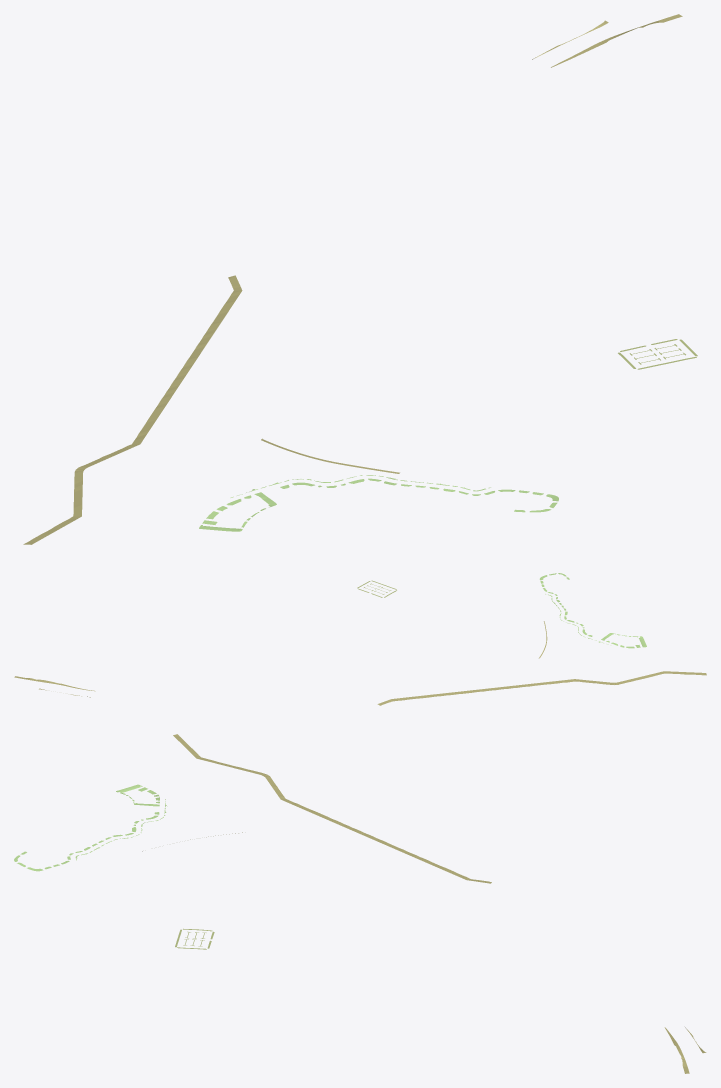
File: groundfill.dae
3 views of the same model, one above another, from view 1: azimuth 30°, elevation 25°; view 2: azimuth 150°, elevation 25°; view 3: azimuth 270°, elevation 25° (orthographic). The views are drawn at different scales.
Parts seen in each view (by area): view 1: groundfill; view 2: groundfill; view 3: groundfill.
Boxes of the visible parts, box(x1,y1,x2,y2) form: groundfill: box(23, 14, 697, 544); groundfill: box(14, 573, 706, 705); groundfill: box(14, 734, 706, 1073).
Size of the model in its own units: 2102 by 1761 by 51.1.
